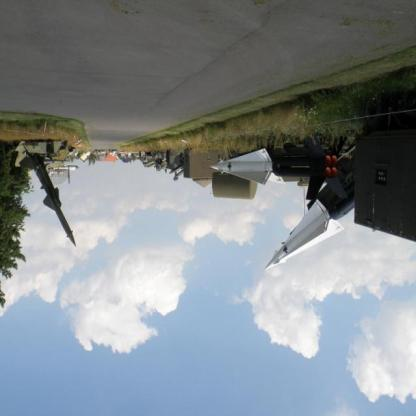MIL_TBM: (19, 154, 81, 250)
